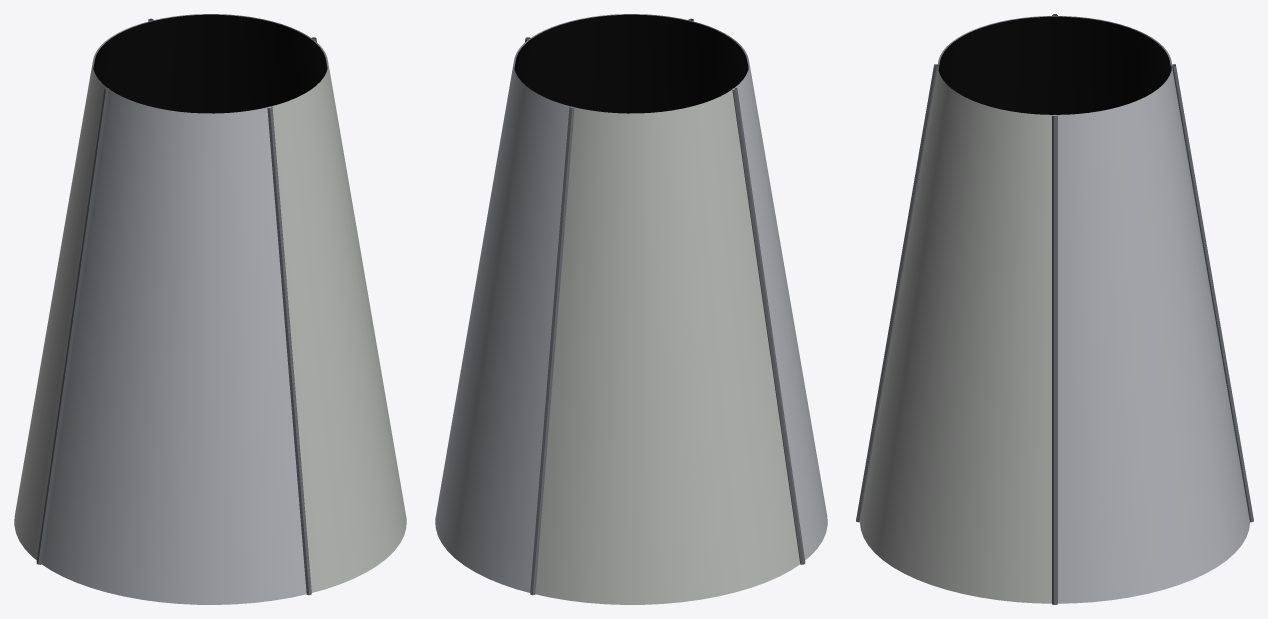
Rendered from saturn_sla.glb.
3 renders of one model, left to right at view 1: azimuth 30°, elevation 25°; view 2: azimuth 150°, elevation 25°; view 3: azimuth 270°, elevation 25°, orthographic.
Visible parts, largest first — view 1: model; view 2: model; view 3: model.
Boxes of the visible parts, x1,y1,x2,y2 form: model: [14, 14, 406, 604]; model: [435, 14, 827, 604]; model: [856, 14, 1253, 604].
Bounding box in the file's own units: 6.73 × 8.51 × 6.73.
Materials: 1 (1 with a texture image).
